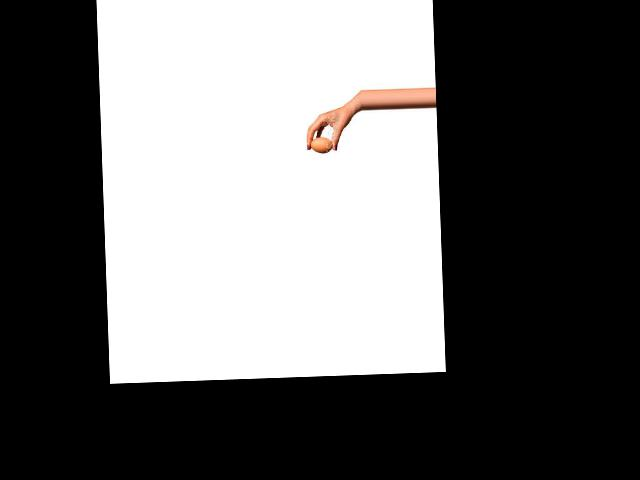egg: (310, 137, 333, 152)
